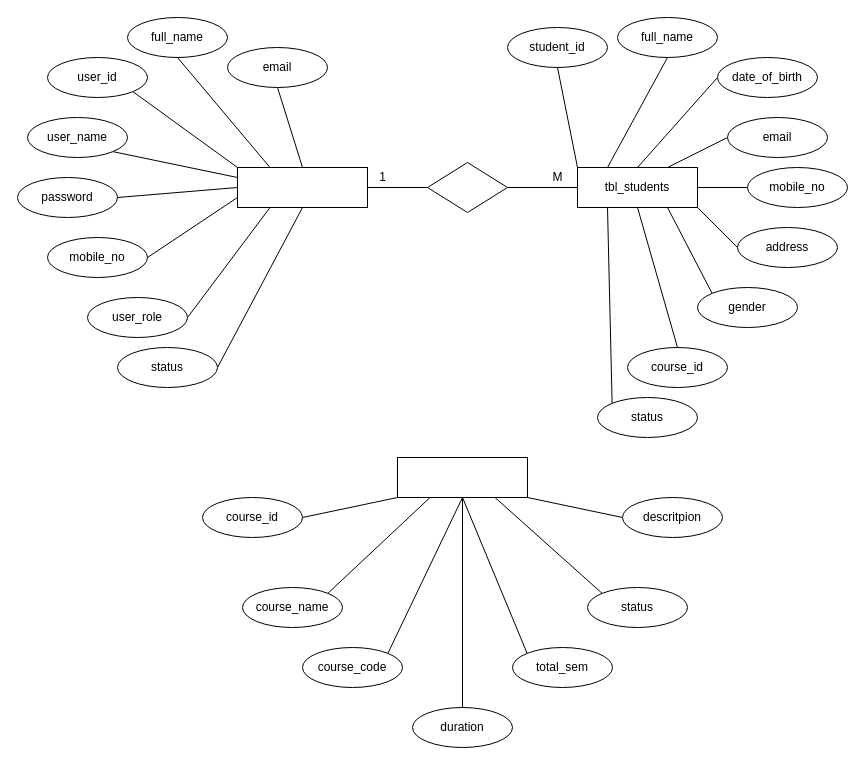
The diagram is 865 pixels wide and 765 high, and some of its shapes have lost their labels. The box of each missing label's shape, as (x1, y1, x2, y2) in pixels:
register: (426, 162, 508, 212)
tbl_courses: (396, 456, 528, 498)
tbl_users: (236, 166, 368, 208)
